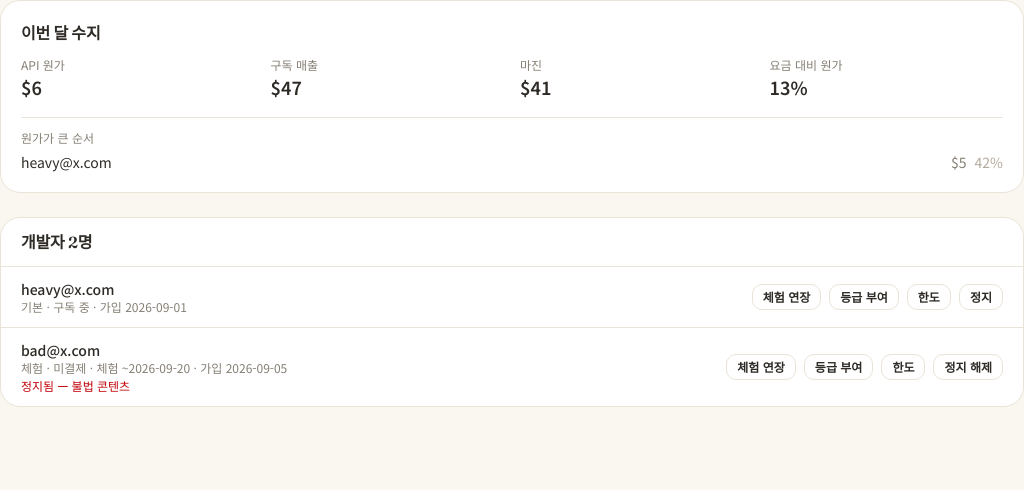
Scenario: [P8-2][P8-3] AdminConsole › 체험 연장을 누르면 늘어난 날짜를 보여준다
Click the button with aria-label "bad@x.com 체험 연장" at (761, 367), box [726, 354, 796, 380]
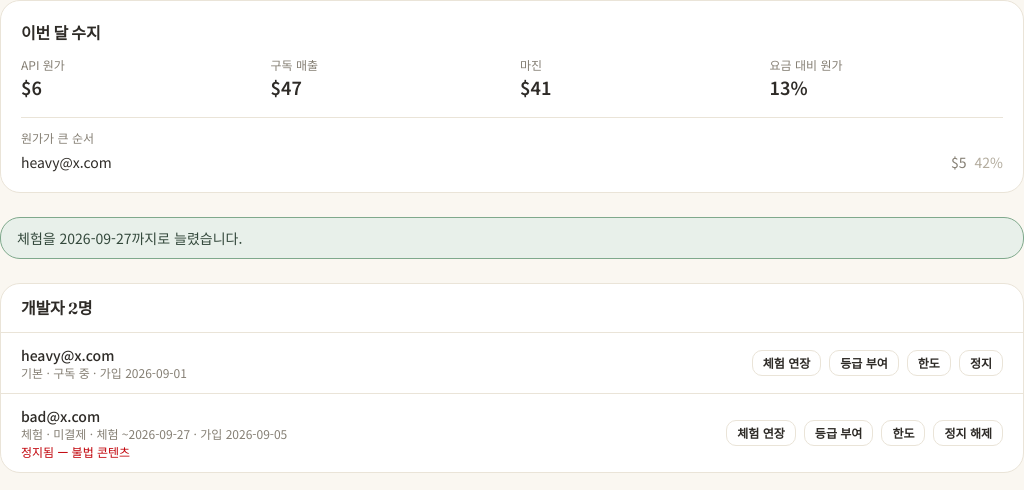
expect the text "체험을 2026-09-27까지로 늘렸습니다." is shown: met, box [0, 217, 1023, 259]
